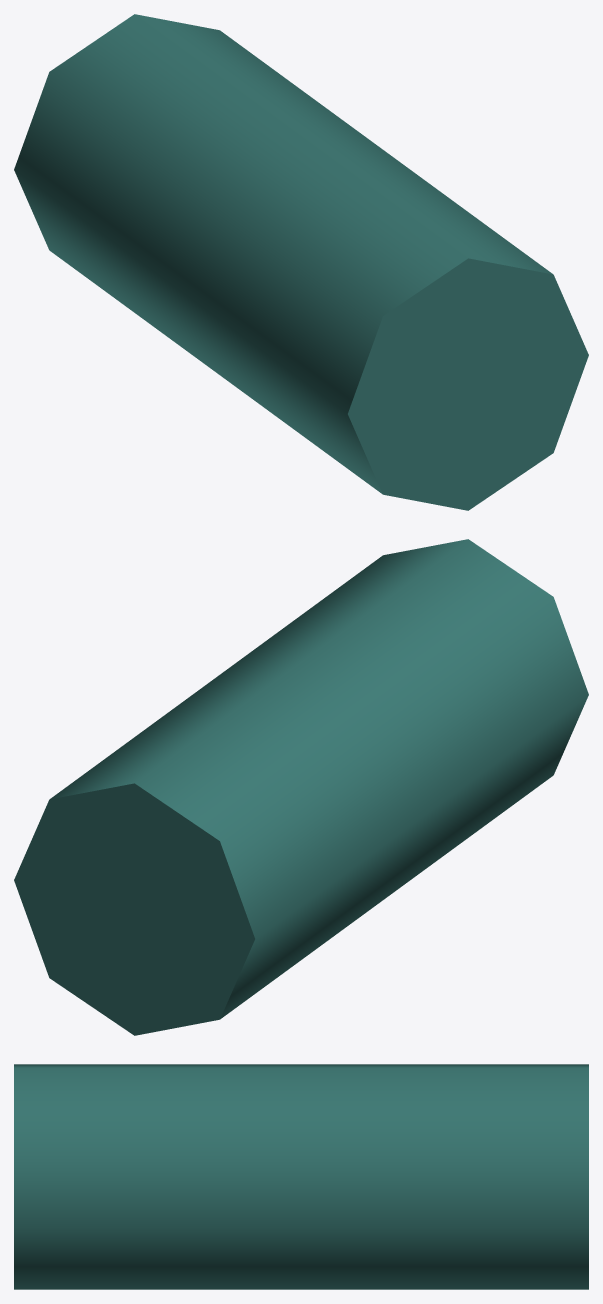
File: fabric-roll.glb
3 views of the same model, one above another, from view 1: azimuth 30°, elevation 25°; view 2: azimuth 150°, elevation 25°; view 3: azimuth 270°, elevation 25° (orthographic). The views are drawn at different scales.
Visible parts, largest first — view 1: fabric-roll-surface; view 2: fabric-roll-surface; view 3: fabric-roll-surface.
Part boxes in pixels (box(x1,y1,x2,y2)): fabric-roll-surface: box(14, 14, 588, 510); fabric-roll-surface: box(14, 539, 588, 1035); fabric-roll-surface: box(14, 1064, 588, 1289).
Bounding box in the file's own units: 0.48 × 0.48 × 1.15.
